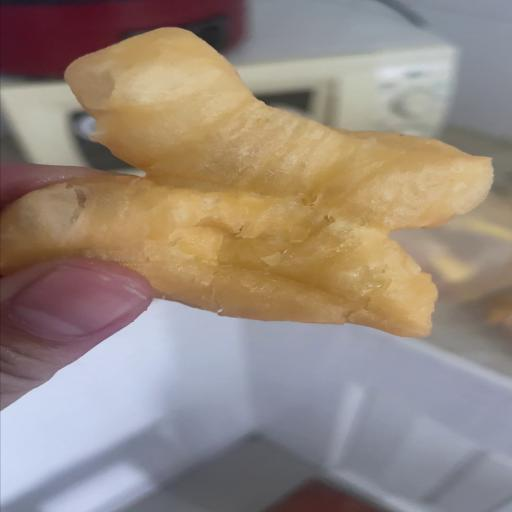street_golden_defect: (2, 30, 496, 342)
